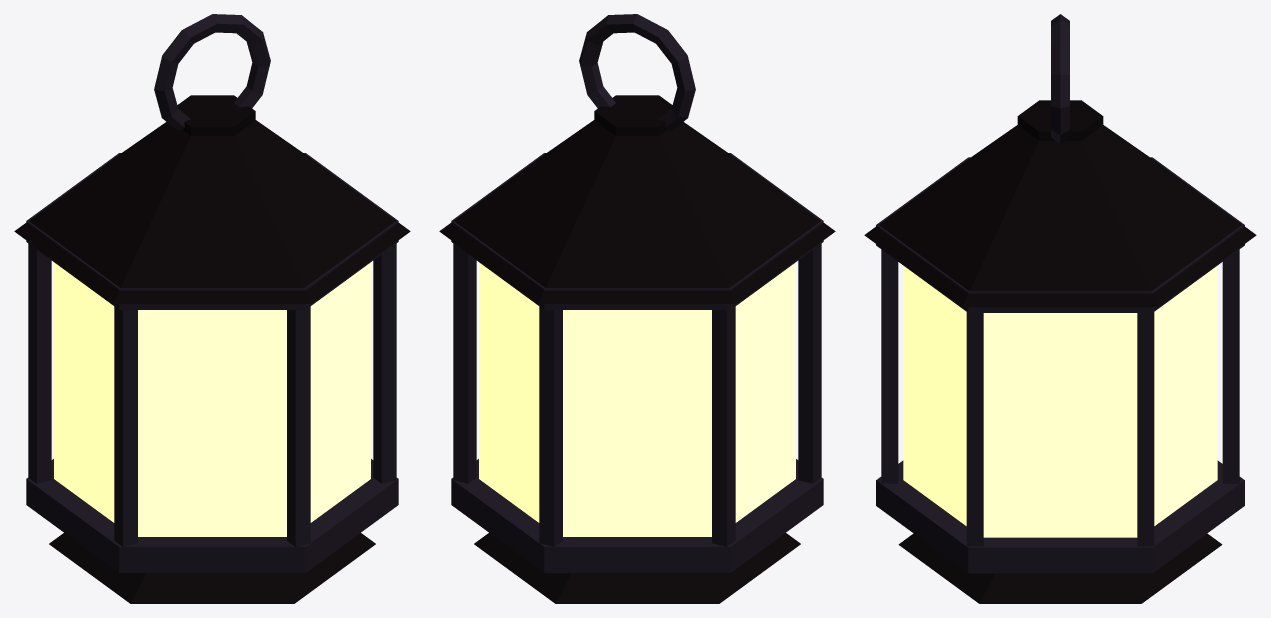
File: rs_lantern.glb
3 views of the same model, side by side, from view 1: azimuth 30°, elevation 25°; view 2: azimuth 150°, elevation 25°; view 3: azimuth 270°, elevation 25° (orthographic).
Parts seen in each view (by area): view 1: lantern_body; view 2: lantern_body; view 3: lantern_body.
Part boxes in pixels (<box>): lantern_body: <box>14,14,410,603</box>; lantern_body: <box>439,14,835,603</box>; lantern_body: <box>864,14,1256,603</box>.
Bounding box in the file's own units: 0.2749 × 0.4979 × 0.3174.
